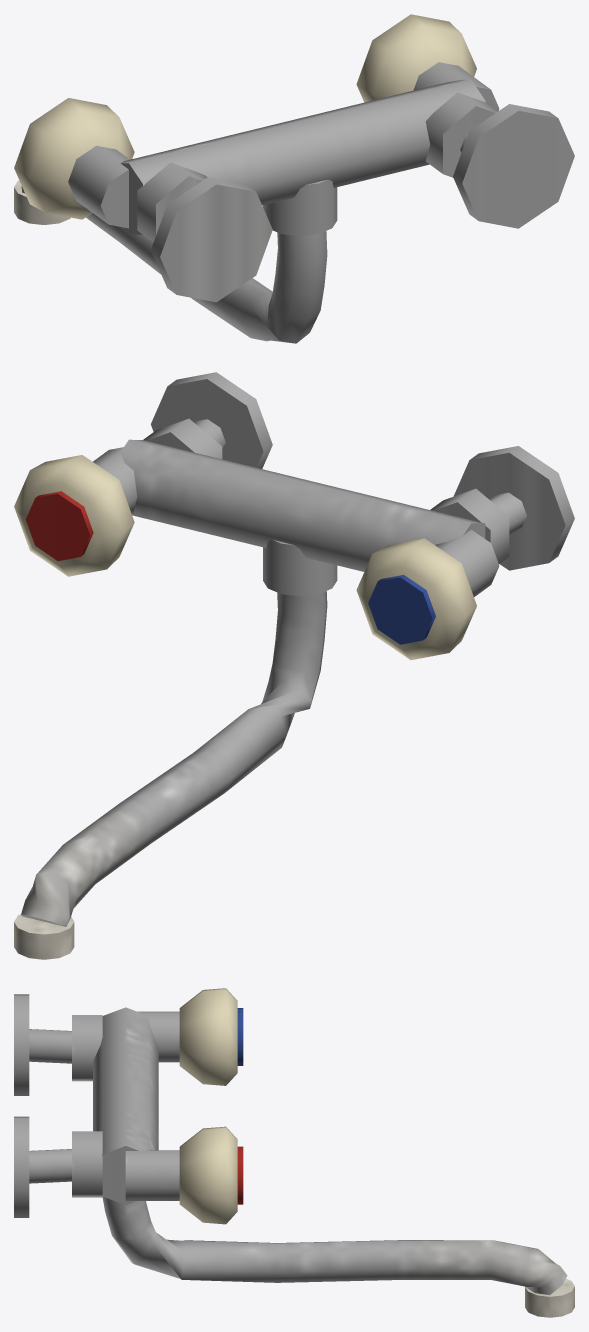
File: faucet_wall_knobs_lod1_web.glb
3 renders of one model, top to bottom at view 1: azimuth 30°, elevation 25°; view 2: azimuth 150°, elevation 25°; view 3: azimuth 270°, elevation 25°, orthographic. The views are drawn at different scales.
Visible parts, largest first — view 1: Chrome_FaucetWallKnobs, Chrome_Spout; view 2: Chrome_FaucetWallKnobs, Chrome_Spout; view 3: Chrome_FaucetWallKnobs, Chrome_Spout.
Part boxes in pixels (x1=…): Chrome_FaucetWallKnobs: x1=14, y1=14, x2=574, y2=302; Chrome_Spout: x1=14, y1=179, x2=337, y2=343; Chrome_FaucetWallKnobs: x1=14, y1=372, x2=574, y2=660; Chrome_Spout: x1=14, y1=539, x2=337, y2=959; Chrome_FaucetWallKnobs: x1=14, y1=988, x2=243, y2=1224; Chrome_Spout: x1=102, y1=1197, x2=574, y2=1317.
Bounding box in the file's own units: 0.224 × 0.143 × 0.291.
5 materials, 5 textured.
